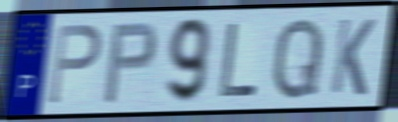9: (163, 16, 213, 106)
K: (328, 16, 378, 99)
L: (216, 21, 260, 101)
P: (101, 19, 159, 106), (46, 22, 104, 107)
Q: (270, 14, 326, 104)
